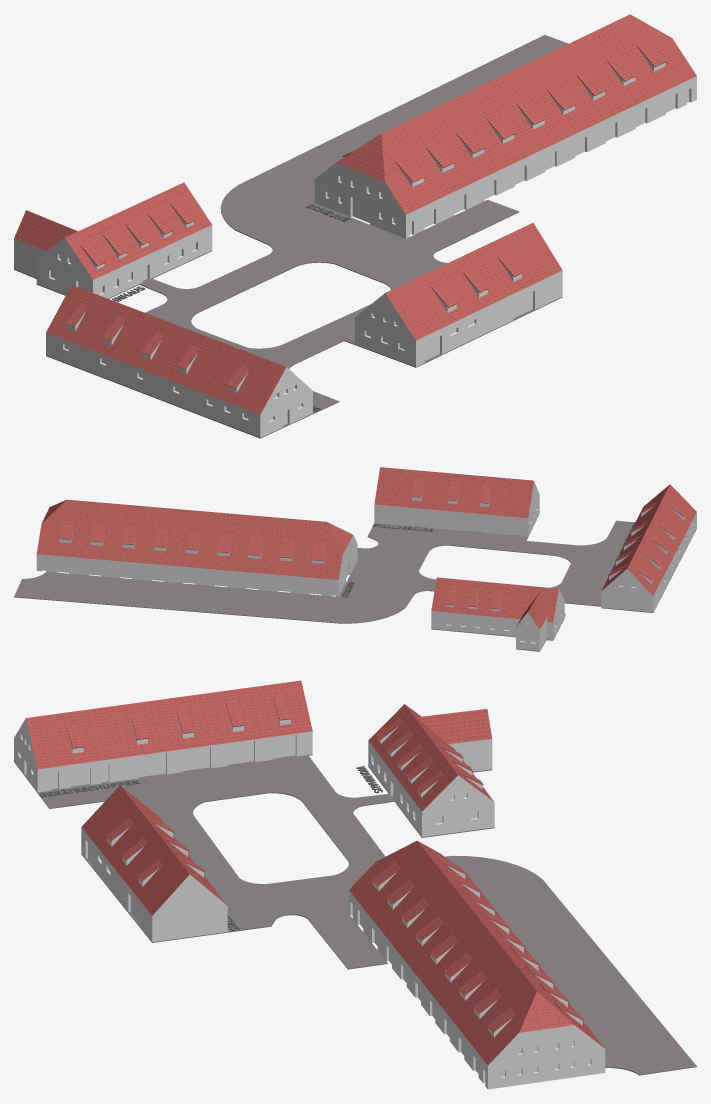
File: Kommandantursgebäude Deiningen.glb
The picture shows the model from 3 angles, top to bottom: view 1: azimuth 30°, elevation 25°; view 2: azimuth 150°, elevation 25°; view 3: azimuth 270°, elevation 25°; orthographic projection. The views are drawn at different scales.
Visible parts, largest first — view 1: VisualSceneNode1.138, VisualSceneNode1.088, VisualSceneNode1.158, VisualSceneNode1.101, VisualSceneNode1.141, VisualSceneNode1.139; view 2: VisualSceneNode1.088, VisualSceneNode1.138, VisualSceneNode1.101, VisualSceneNode1.158, VisualSceneNode1.141, VisualSceneNode1.139; view 3: VisualSceneNode1.088, VisualSceneNode1.138, VisualSceneNode1.158, VisualSceneNode1.101, VisualSceneNode1.141, VisualSceneNode1.139.
Boxes of the visible parts, <box> form: VisualSceneNode1.138: <box>314,14,696,238</box>; VisualSceneNode1.088: <box>46,35,568,438</box>; VisualSceneNode1.158: <box>46,285,312,437</box>; VisualSceneNode1.101: <box>354,222,562,366</box>; VisualSceneNode1.141: <box>36,182,212,298</box>; VisualSceneNode1.139: <box>14,210,77,277</box>; VisualSceneNode1.088: <box>14,513,696,623</box>; VisualSceneNode1.138: <box>36,499,357,596</box>; VisualSceneNode1.101: <box>374,467,539,536</box>; VisualSceneNode1.158: <box>601,484,696,612</box>; VisualSceneNode1.141: <box>431,577,564,639</box>; VisualSceneNode1.139: <box>516,591,547,651</box>; VisualSceneNode1.088: <box>14,754,696,1075</box>; VisualSceneNode1.138: <box>349,840,605,1089</box>; VisualSceneNode1.158: <box>14,680,312,792</box>; VisualSceneNode1.101: <box>81,785,227,941</box>; VisualSceneNode1.141: <box>368,704,494,836</box>; VisualSceneNode1.139: <box>407,709,492,771</box>.
Bounding box in the file's own units: 98.8 × 9.9 × 78.01.
5 materials, 2 textured.
